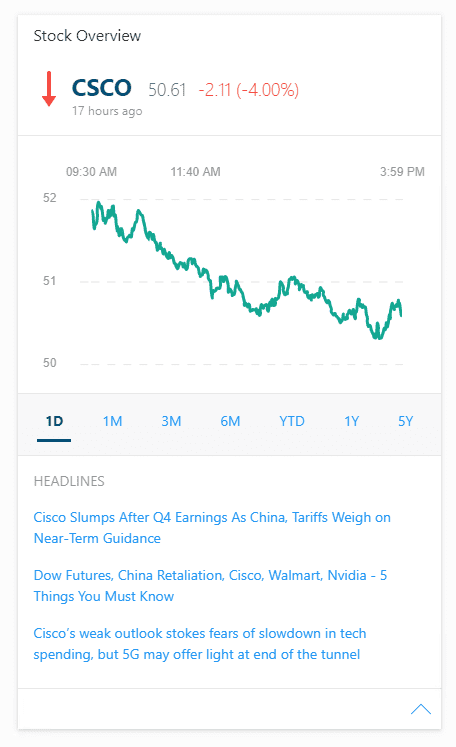image: (17, 132, 442, 457), (39, 67, 62, 109), (406, 697, 435, 721)
textbox: (25, 620, 388, 672), (27, 563, 412, 606), (28, 508, 404, 550), (196, 72, 302, 106), (27, 21, 156, 48), (68, 71, 135, 100), (68, 103, 151, 123), (28, 472, 112, 491), (143, 72, 191, 101)
